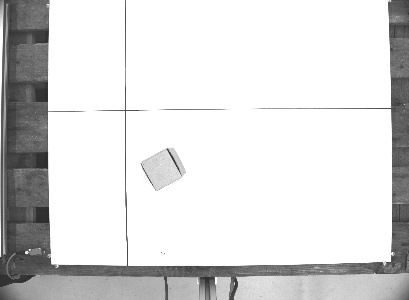b2: (138, 145, 188, 193)
